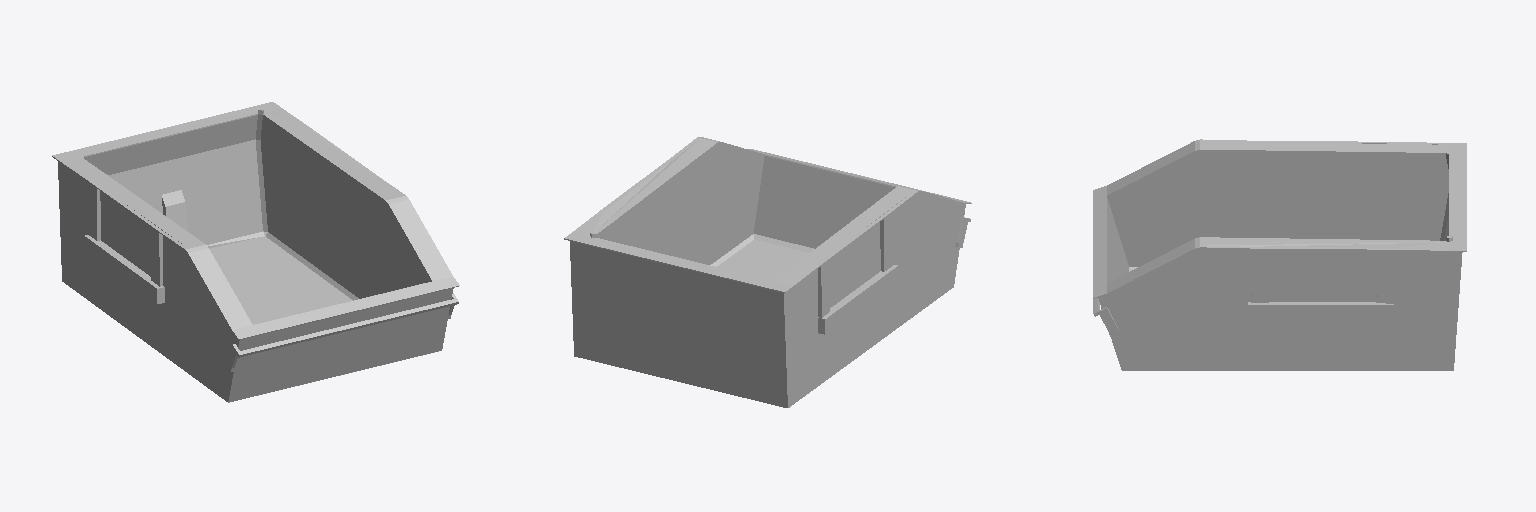
File: trashbin.obj
3 renders of one model, left to right at view 1: azimuth 30°, elevation 25°; view 2: azimuth 150°, elevation 25°; view 3: azimuth 270°, elevation 25°, orthographic.
Visible parts, largest first — view 1: Cube1; view 2: Cube1; view 3: Cube1.
Part boxes in pixels (left/top/right/bottom): Cube1: left=52, top=102, right=459, bottom=402; Cube1: left=564, top=137, right=971, bottom=407; Cube1: left=1093, top=139, right=1466, bottom=370.
Bounding box in the file's own units: 2.14 × 1.12 × 3.02.